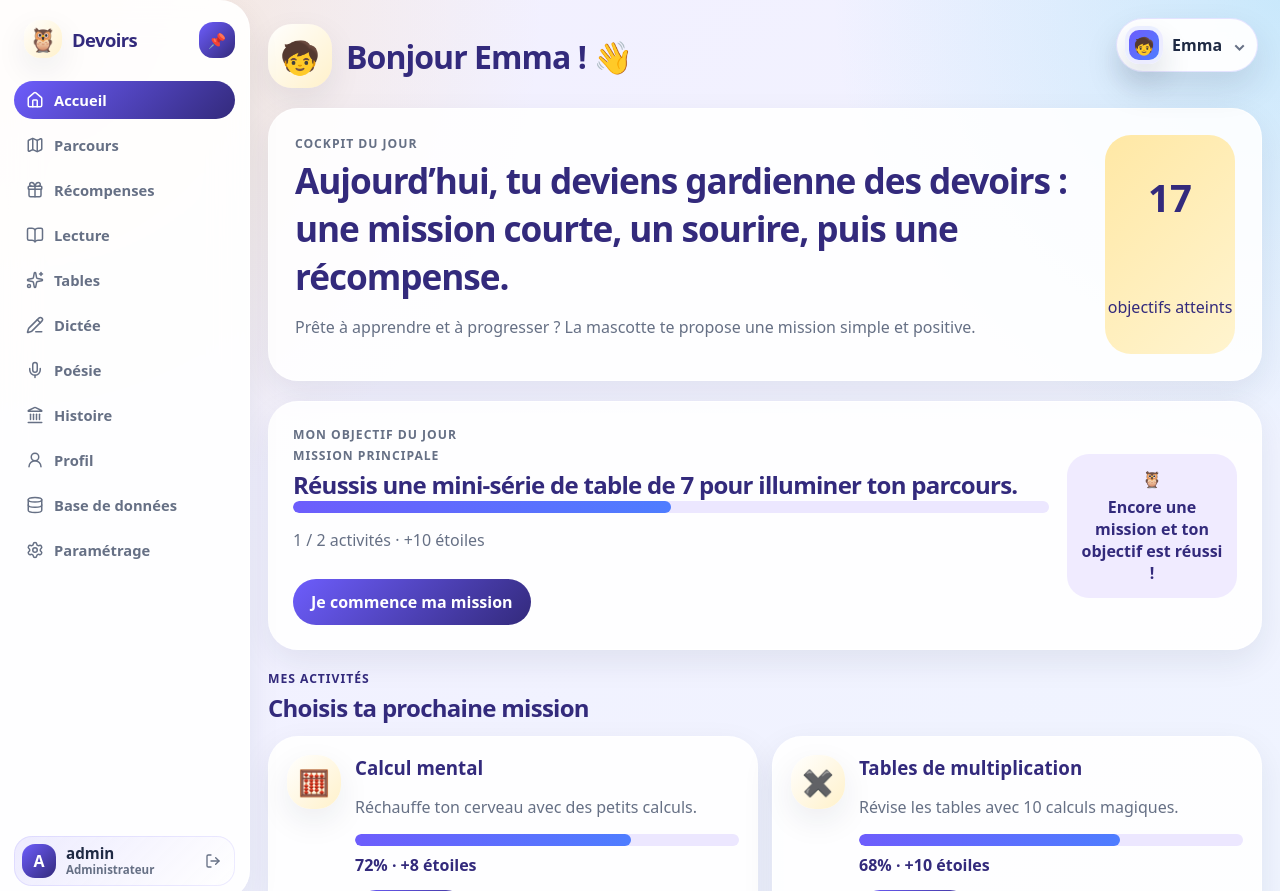
Test: Page Profil famille › ouvre l’édition famille depuis le nom et propose plusieurs images type
Click the button "Profil". click: click(124, 460)
box: [14, 441, 235, 479]
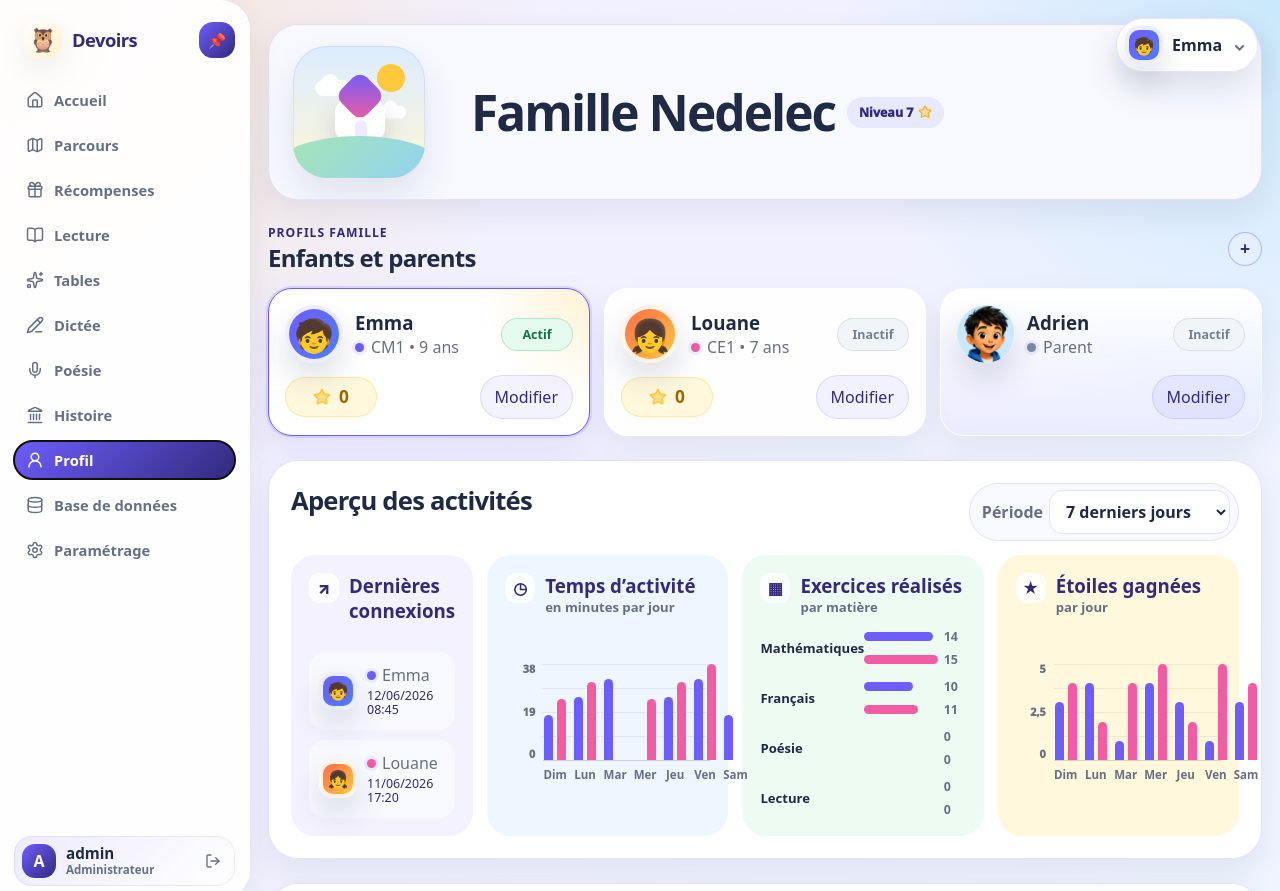
Expected: the heading "Famille Nedelec" is shown
Click the button with aria-label "modifier le nom de la famille". click: click(653, 112)
box: [471, 78, 835, 146]
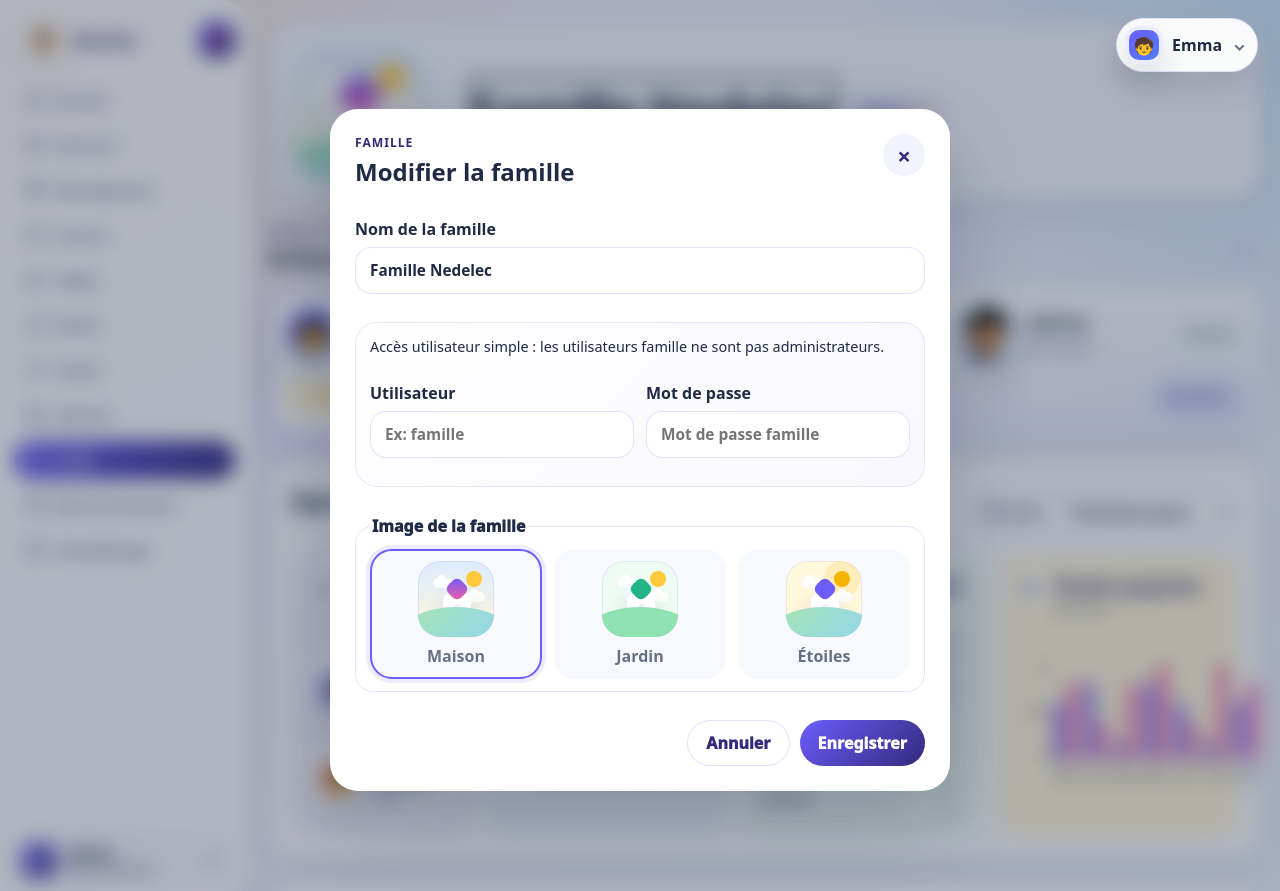
Expected: the field labelled "Nom de la famille" holds "Famille Nedelec"
Expected: the number of elements with class "miniature" is 3, [418, 561, 494, 637]; [602, 561, 678, 637]; [786, 561, 862, 637]
Replace the text in the field labelled "Nom de la famille" with "Famille Test". click: (640, 270)
box: [355, 247, 925, 294]
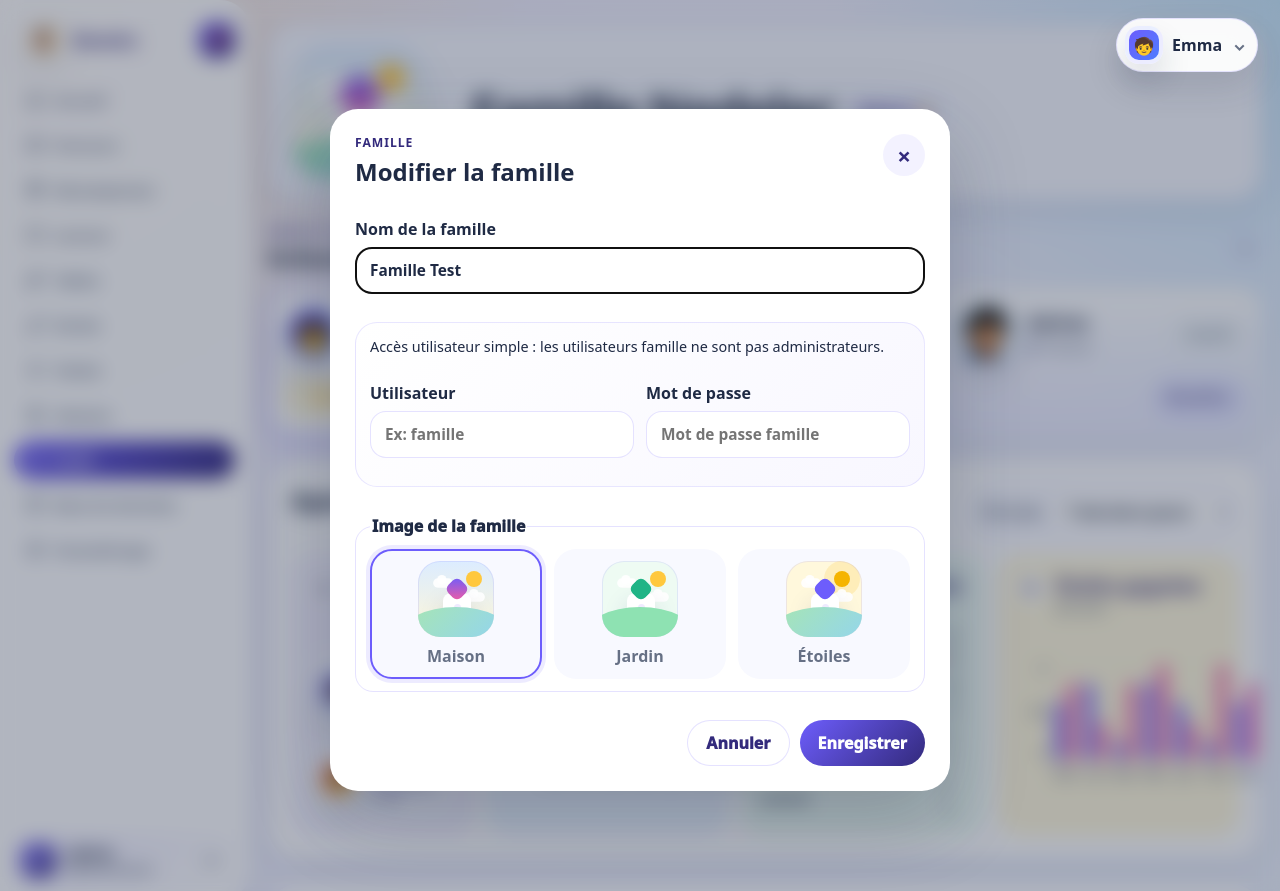
Click the radio button showing "garden". click: click(640, 614)
box: [554, 549, 726, 679]
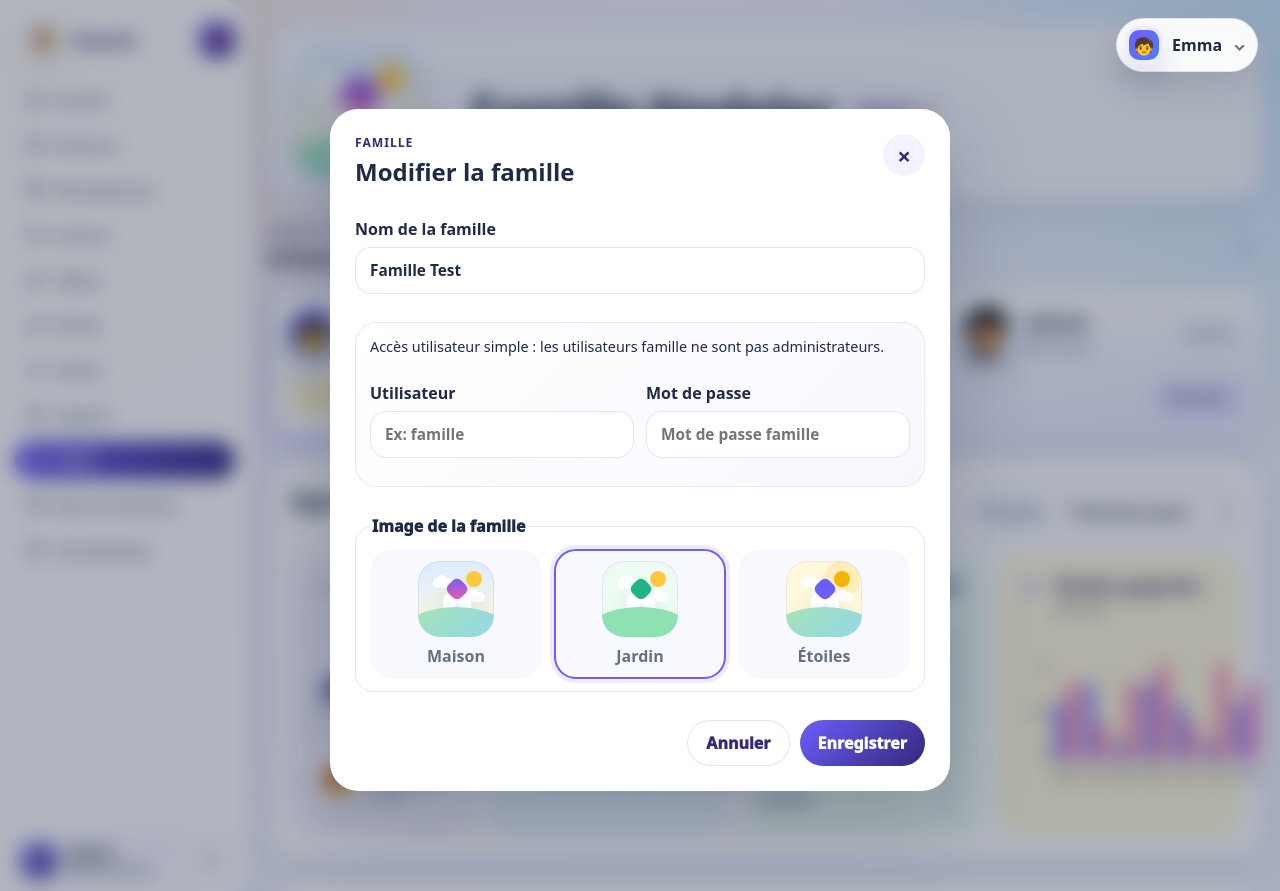
Click the button "Enregistrer". click: click(862, 743)
box: [800, 720, 925, 766]
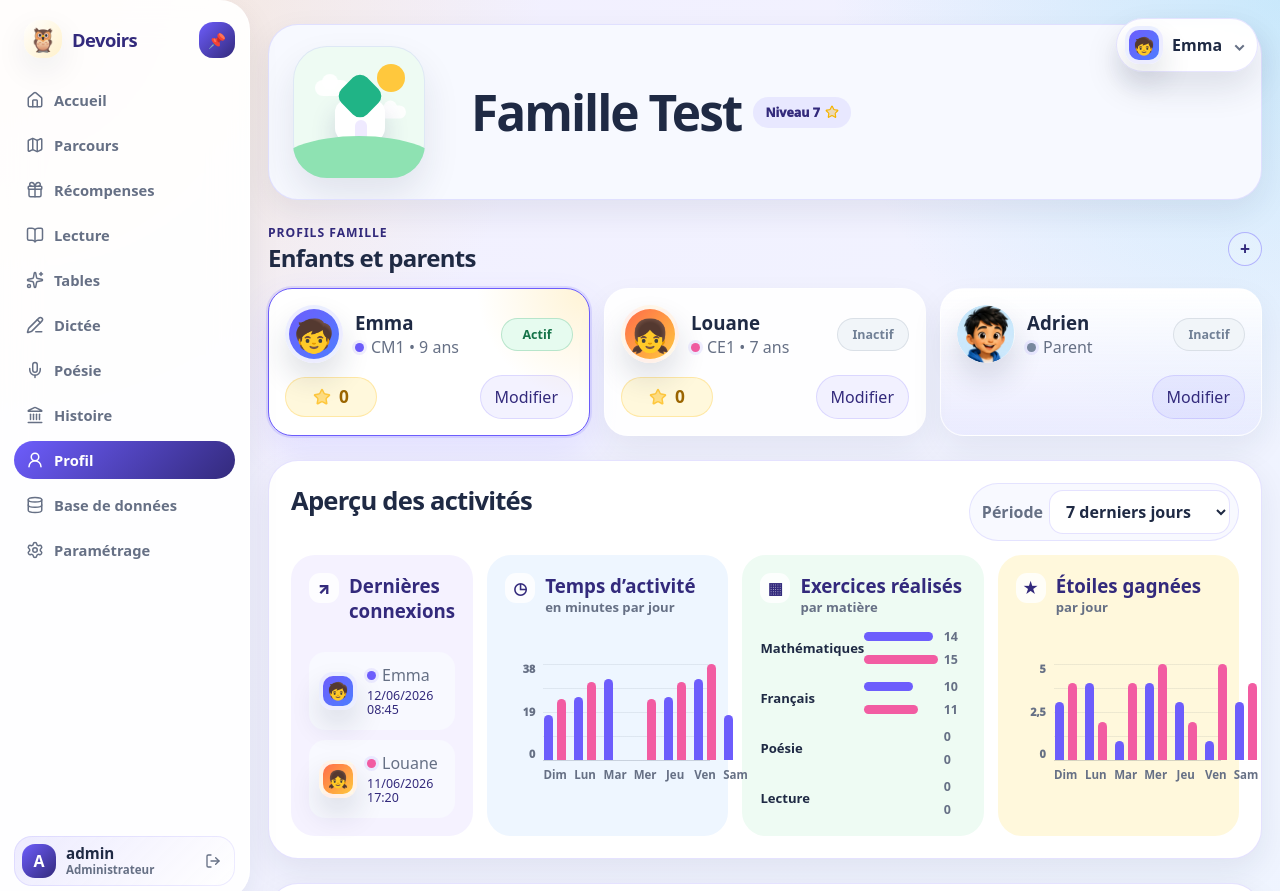
Expected: the dialog is gone
Expected: the heading "Famille Test" is shown, [471, 78, 741, 146]
